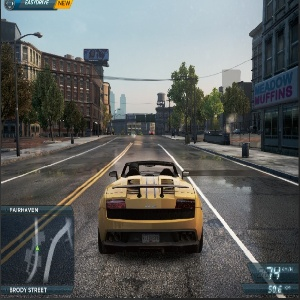ad: (252, 77, 300, 106), (84, 48, 109, 63)
building: (36, 46, 111, 134)
garbage: (241, 141, 250, 157)
lamp post: (15, 29, 50, 157)
mailbox: (184, 133, 197, 144)
road sign: (137, 113, 156, 122)
tree: (38, 69, 63, 142), (172, 68, 199, 134), (223, 84, 251, 137), (201, 90, 224, 132), (66, 99, 85, 140)
